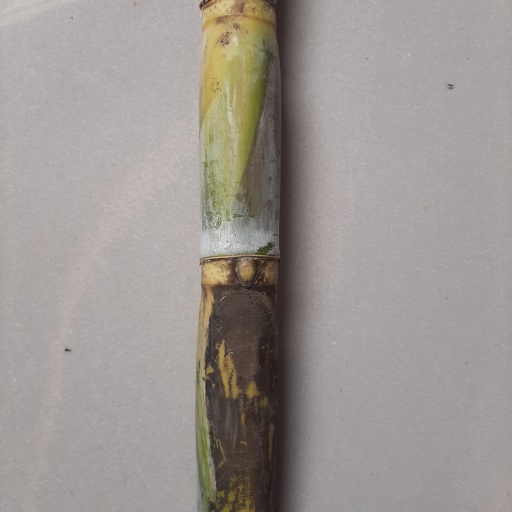Bud: (234, 258, 260, 289)
